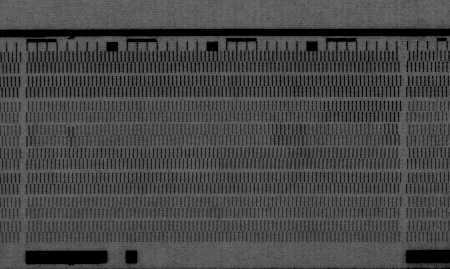Oblique printing: (64, 124, 78, 140)
